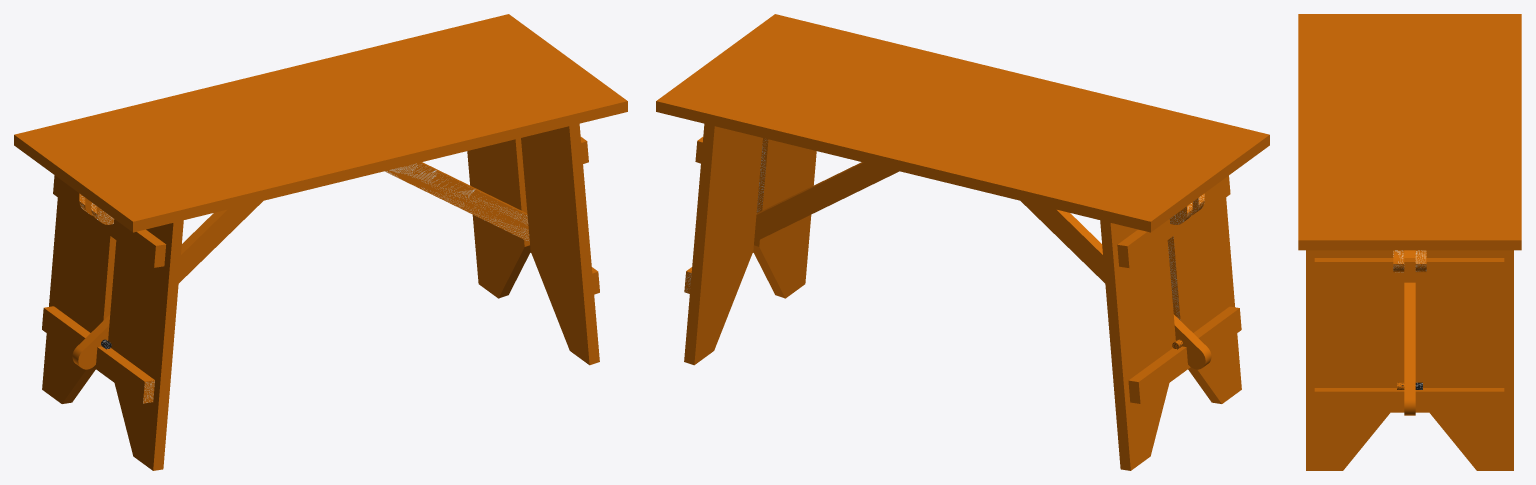
3 renders of one model, left to right at view 1: azimuth 30°, elevation 25°; view 2: azimuth 150°, elevation 25°; view 3: azimuth 270°, elevation 25°, orthographic. The views are drawn at different scales.
Visible parts, largest first — view 1: mesh1_mesh1-geometry; view 2: mesh1_mesh1-geometry; view 3: mesh1_mesh1-geometry.
Part boxes in pixels (x1,y1,x2,y2): mesh1_mesh1-geometry: (14, 14, 627, 470); mesh1_mesh1-geometry: (656, 14, 1269, 470); mesh1_mesh1-geometry: (1298, 14, 1521, 470).
Size of the model in its own units: 0.8381 by 0.4191 by 0.3492.
